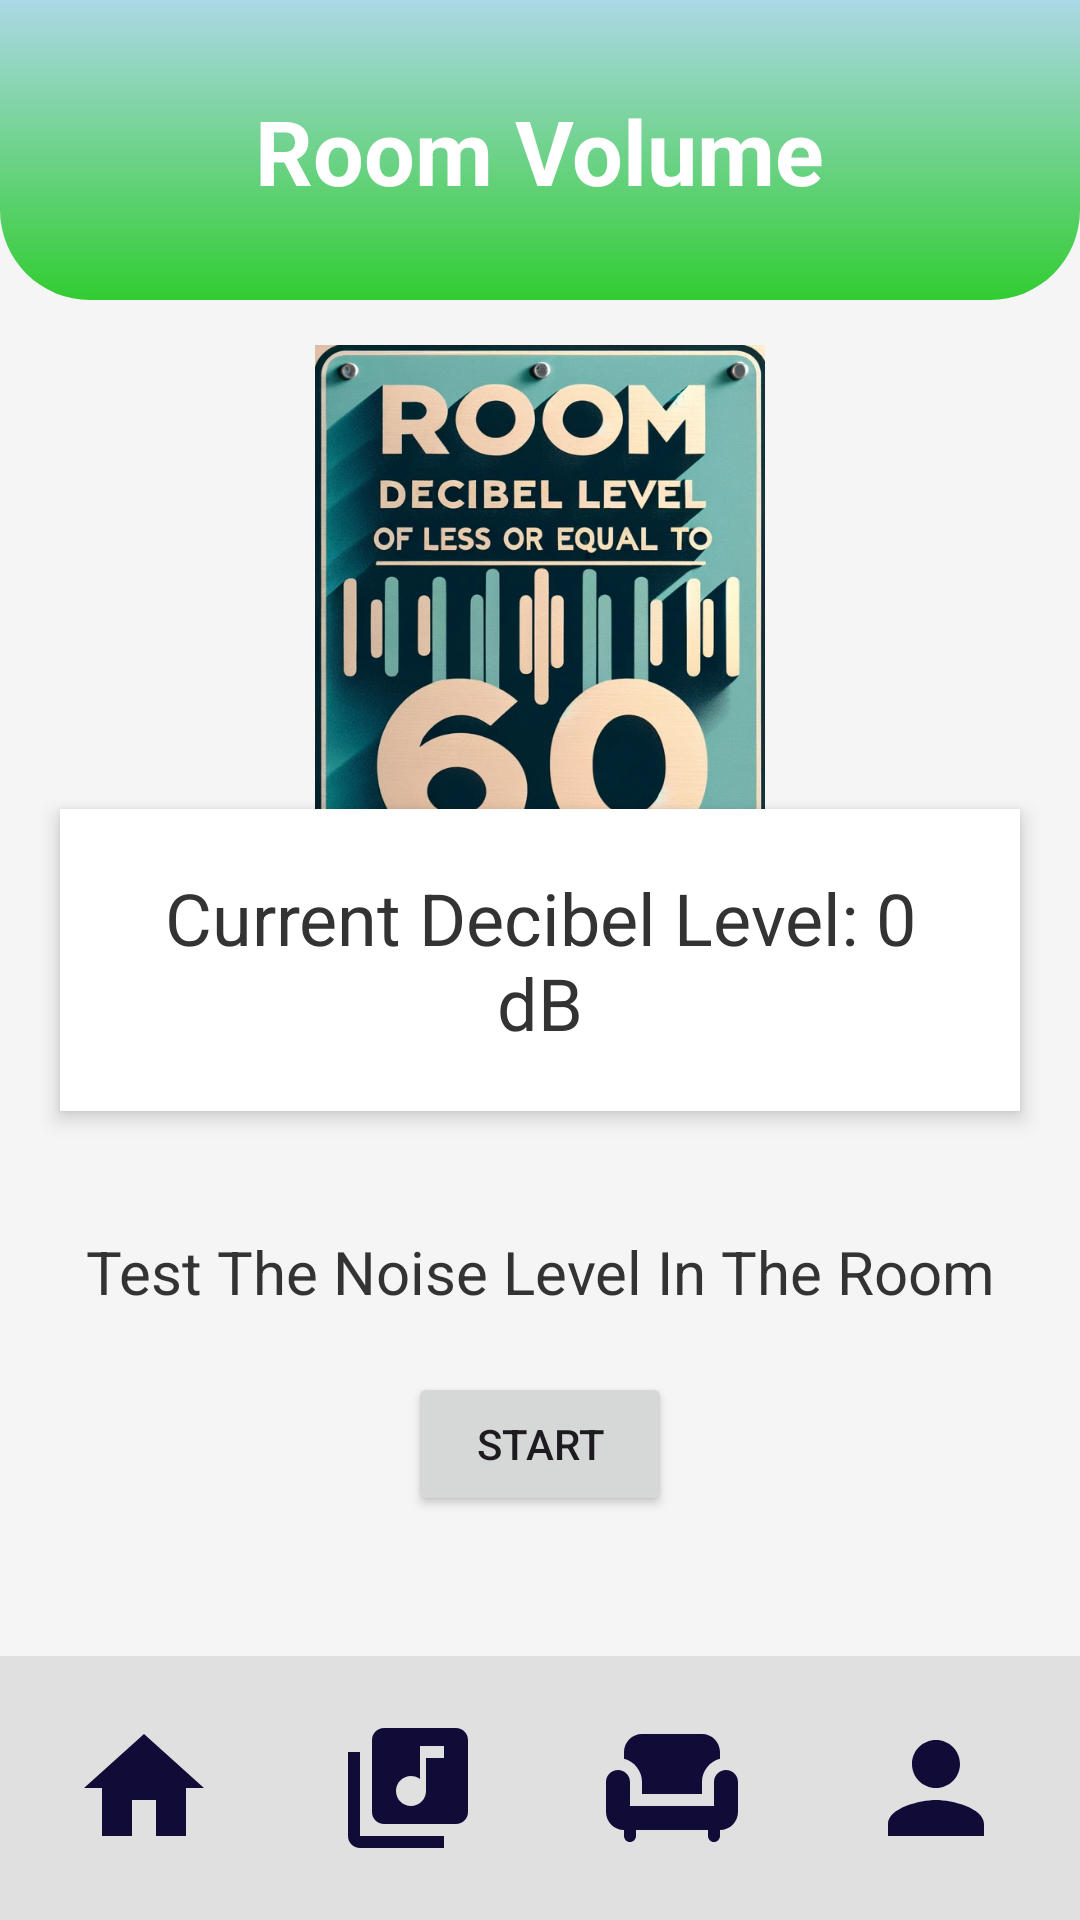

Icon click points for this 1080px×1920px phone screenshot, format (x,y):
chair: (672,1788)
home: (144,1785)
library music: (408,1788)
person: (936,1788)
